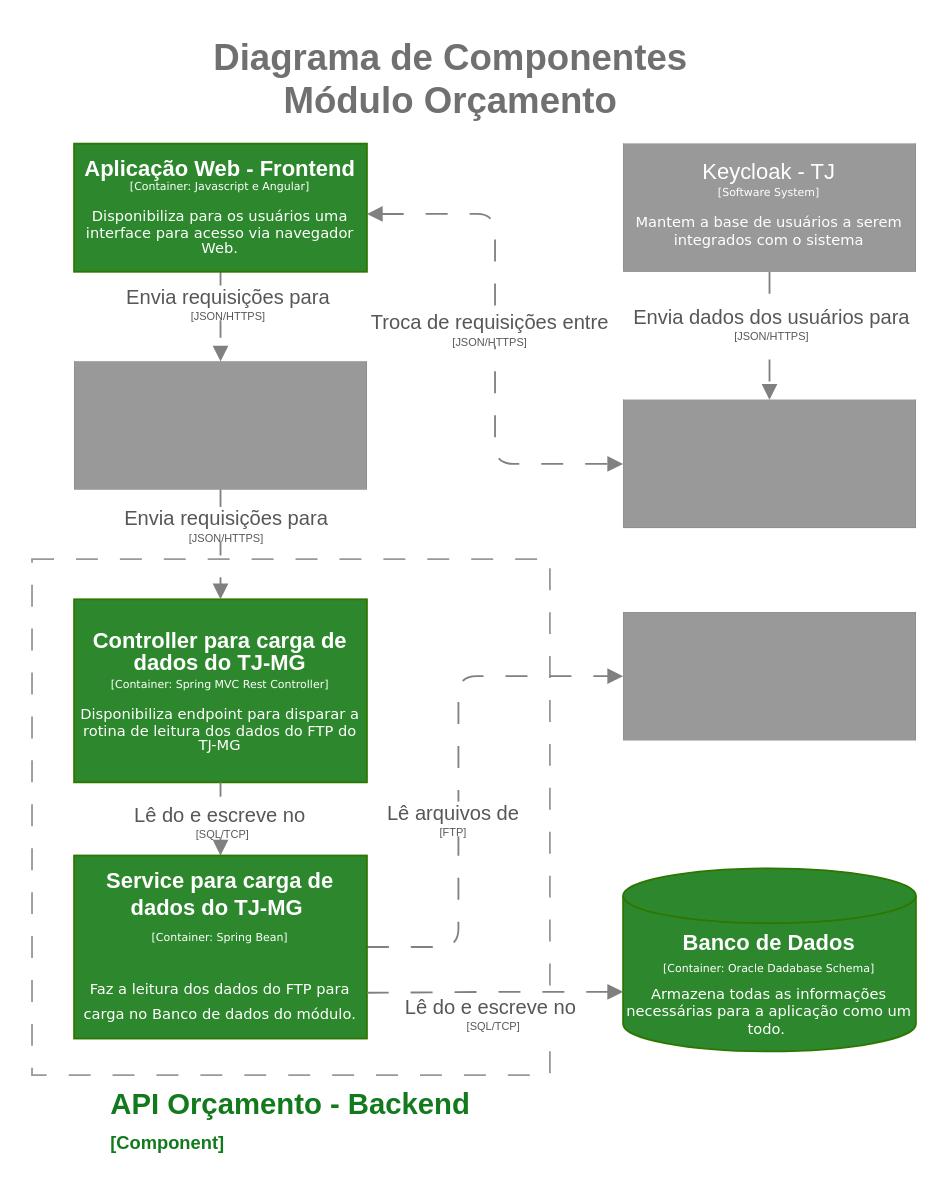
The diagram is 948 pixels wide and 1188 high, and some of its shapes have lost their labels. The centre of each missing label's shape, as x and y in pixels:
MG- API [Software System] Faz toda a gestão de acesso à API.: pixel 219 425
Servidor FTP [Storage] Armazena arquivos do TJ-MG: pixel 768 675
SSC [Software System] Faz a gestão de acesso de usuários à aplicação Web.: pixel 768 463
